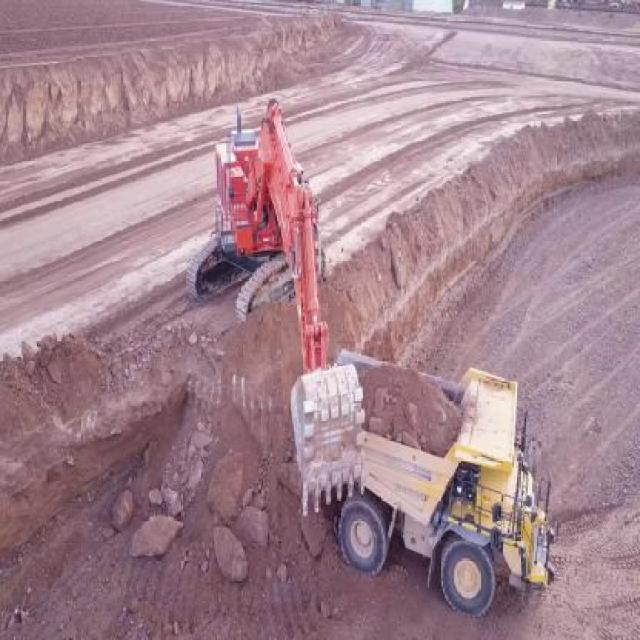dump truck: (332, 341, 559, 622)
excavator: (187, 96, 371, 518)
